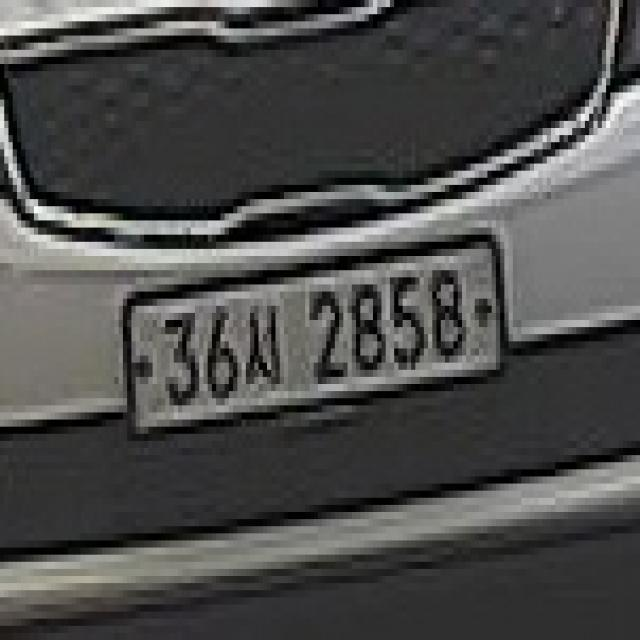2: (305, 285, 348, 391)
3: (161, 313, 199, 405)
5: (390, 263, 428, 370)
6: (204, 299, 238, 398)
8: (428, 256, 466, 363), (348, 277, 386, 377)
license_plate: (119, 220, 508, 448)
seo: (242, 299, 288, 391)
